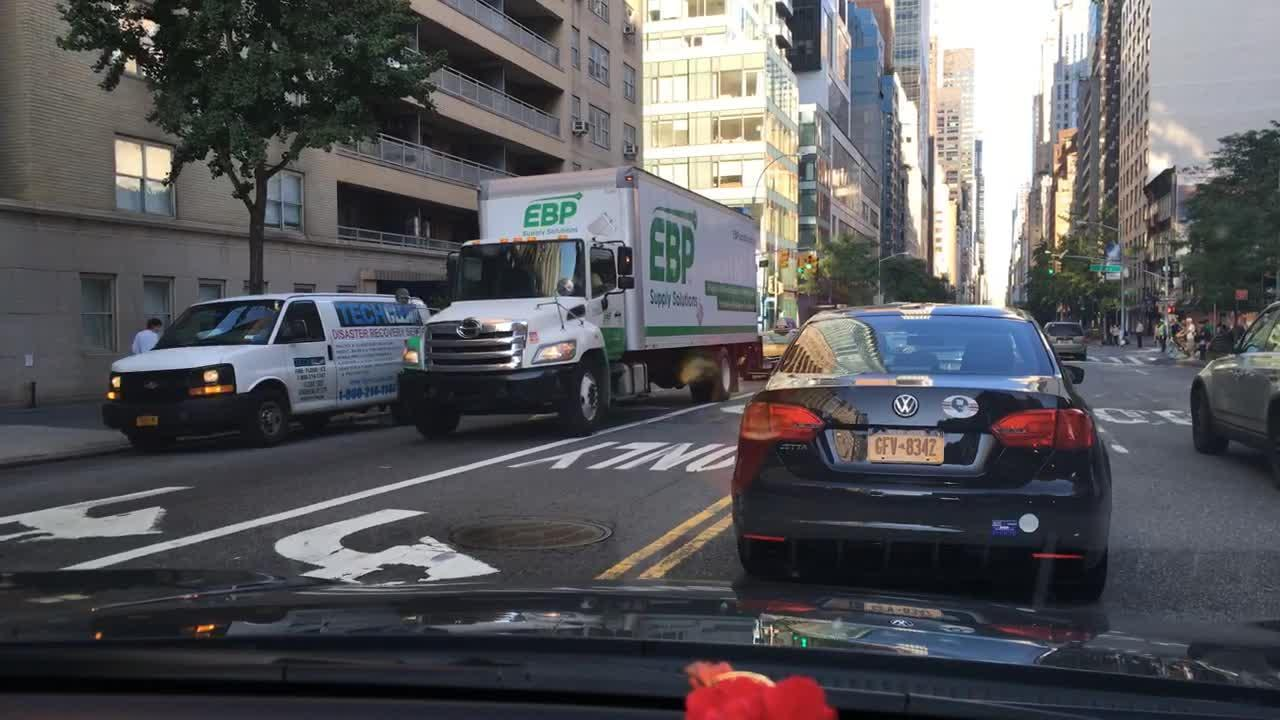Volkswagen: (892, 391, 919, 421)
